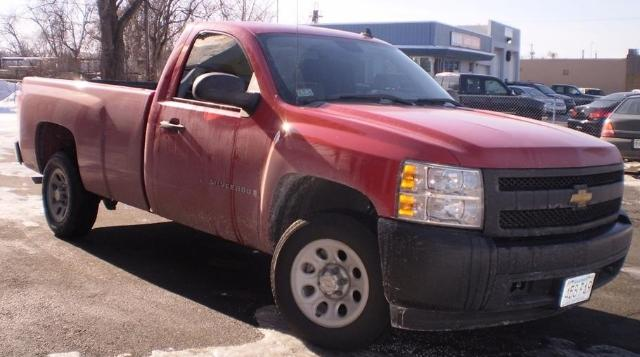pickup-truck: (13, 20, 634, 351)
